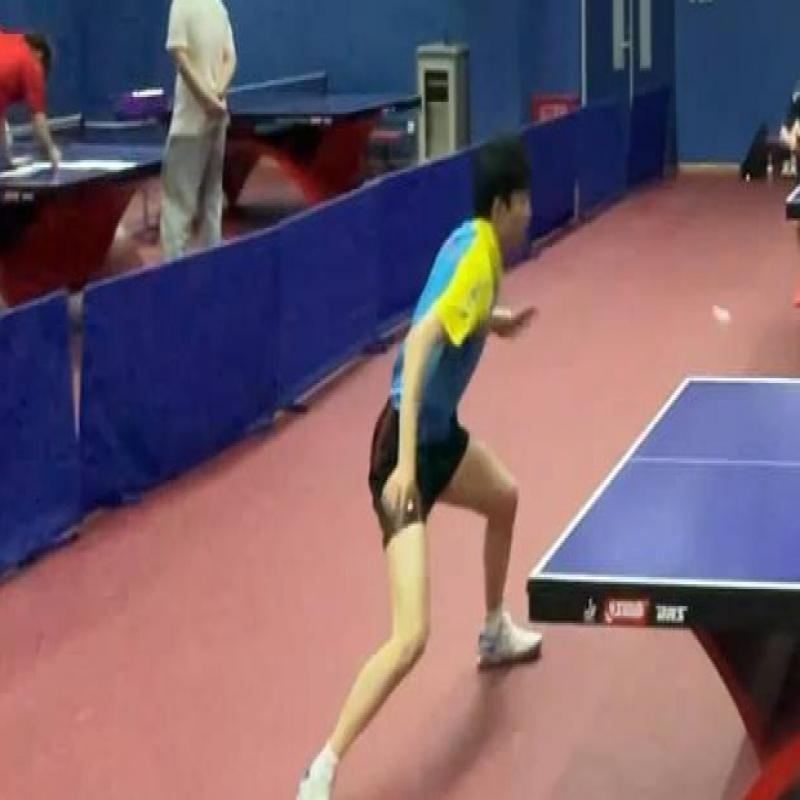bats: (502, 281, 548, 354)
